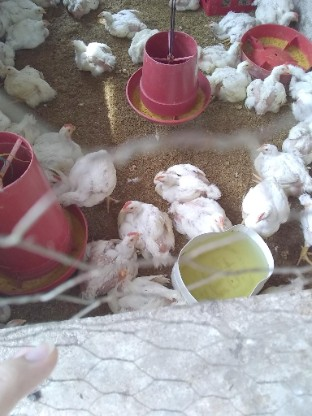Pollos: (66, 229, 136, 300), (57, 145, 123, 209), (117, 195, 175, 262), (248, 137, 312, 193), (106, 268, 175, 315), (142, 155, 215, 193), (34, 119, 83, 175), (162, 198, 236, 234), (240, 185, 287, 240), (1, 65, 58, 108), (243, 61, 290, 113), (62, 34, 116, 79), (206, 57, 253, 107), (0, 18, 54, 51), (125, 23, 165, 63), (196, 34, 243, 68), (95, 4, 142, 35), (281, 118, 312, 163), (289, 61, 312, 121), (252, 0, 298, 29), (213, 5, 249, 40), (0, 0, 45, 27), (60, 0, 99, 19), (166, 0, 201, 11)
